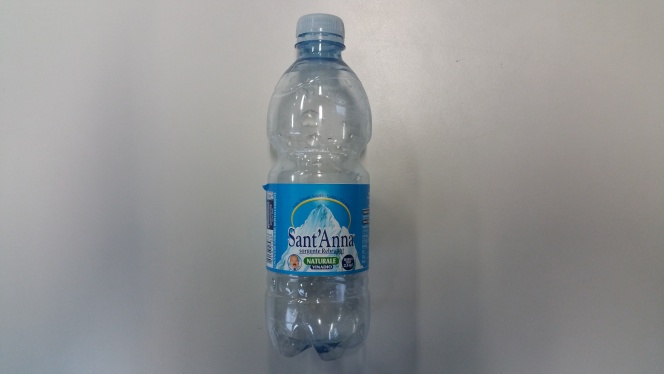bottle: (252, 12, 376, 362)
